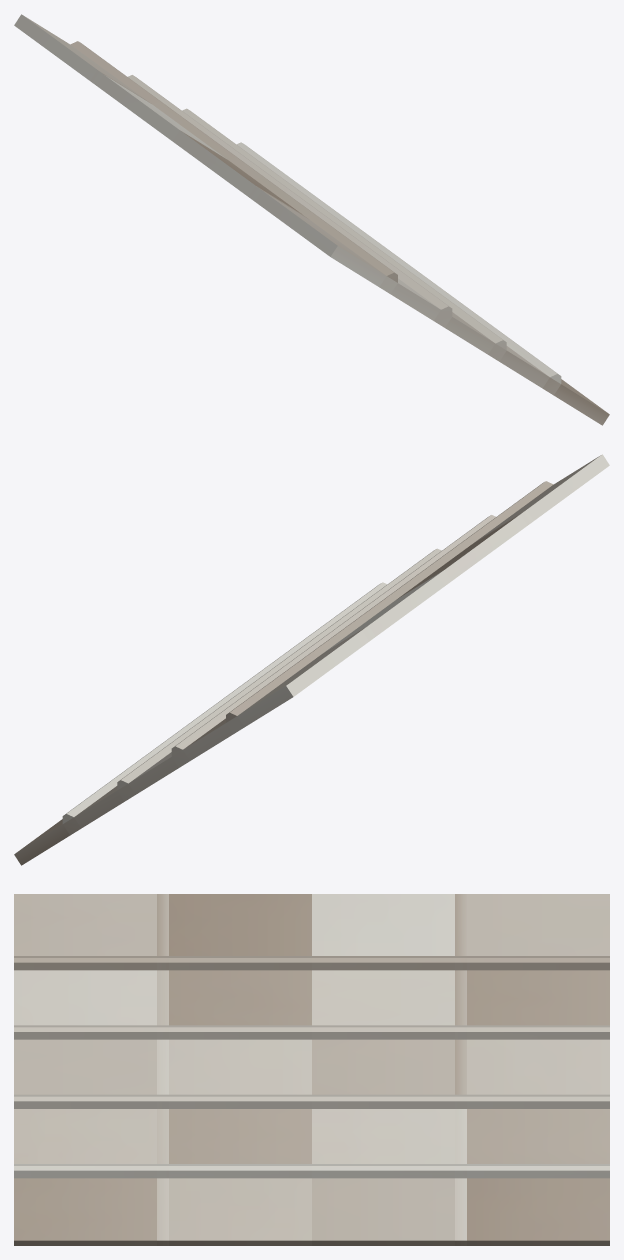
The model's file is cabin_Roof_Snow_R.obj.
The picture shows the model from 3 angles, top to bottom: view 1: azimuth 30°, elevation 25°; view 2: azimuth 150°, elevation 25°; view 3: azimuth 270°, elevation 25°; orthographic projection. The views are drawn at different scales.
Parts seen in each view (by area): view 1: cabin_Roof_Snow_R; view 2: cabin_Roof_Snow_R; view 3: cabin_Roof_Snow_R.
Boxes of the visible parts, x1,y1,x2,y2 form: cabin_Roof_Snow_R: (14,14,609,425); cabin_Roof_Snow_R: (14,454,609,865); cabin_Roof_Snow_R: (14,894,609,1245).
Size of the model in its own units: 4.75 by 3.97 by 9.31.
